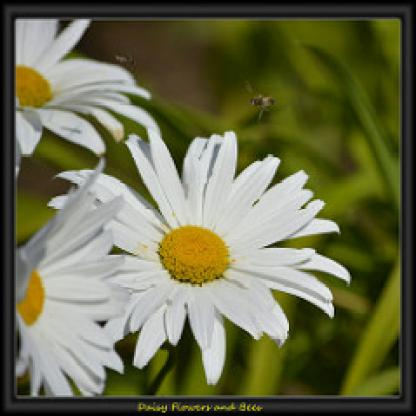ASTER: (15, 17, 363, 389)
